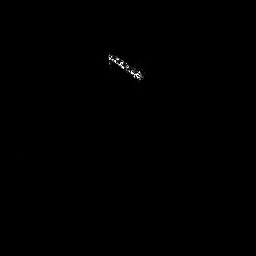ship: (107, 51, 147, 83)
